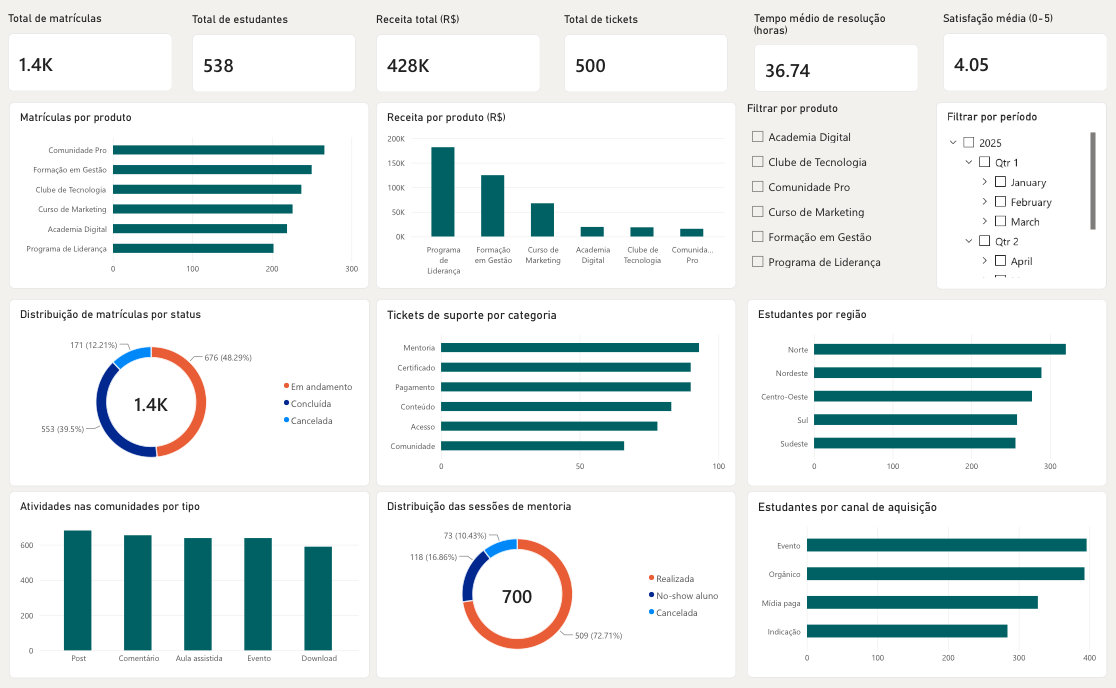

The page's visual inventory and layout, read from the dashboard file:
{"tool":"powerbi","page":{"name":"Page 1","canvas":[1920,1080],"ordinal":0},"visuals":[{"type":"cardVisual","title":"Total de matrículas","fields":{"Data":["CountNonNull(fact_enrollments.enrollment_id)"]},"box":[20,20,189,120],"z":0},{"type":"cardVisual","title":"Total de estudantes","fields":{"Data":["dim_date.Estudantes com Matrículas"]},"box":[210,20,189,120],"z":1},{"type":"cardVisual","title":"Receita total (R$)","fields":{"Data":["Sum(fact_enrollments.amount_brl)"]},"box":[400,20,180,120],"z":2},{"type":"cardVisual","title":"Total de tickets","fields":{"Data":["CountNonNull(fact_support_tickets.ticket_id)"]},"box":[570,20,180,120],"z":3},{"type":"clusteredBarChart","title":"Matrículas por produto","fields":{"Category":["dim_products.product_name"],"Y":["CountNonNull(fact_enrollments.enrollment_id)"]},"box":[20.8,169.6,548.8,260.8],"z":4},{"type":"clusteredColumnChart","title":"Receita por produto (R$)","fields":{"Category":["dim_products.product_name"],"Y":["Sum(fact_enrollments.amount_brl)"]},"box":[569.6,169.6,540.8,260.8],"z":5},{"type":"donutChart","title":"Distribuição de matrículas por status","fields":{"Category":["fact_enrollments.enrollment_status"],"Y":["CountNonNull(fact_enrollments.enrollment_id)"]},"box":[20.8,430.4,548.8,284.8],"z":6},{"type":"clusteredBarChart","title":"Tickets de suporte por categoria","fields":{"Category":["fact_support_tickets.category"],"Y":["CountNonNull(fact_support_tickets.ticket_id)"]},"box":[569.6,430.4,540.8,284.8],"z":7},{"type":"cardVisual","title":"Tempo médio de resolução (horas)","fields":{"Data":["Avg(fact_support_tickets.resolution_hours)"]},"box":[750,20,180,120],"z":8},{"type":"cardVisual","title":"Satisfação média (0-5)","fields":{"Data":["Avg(fact_support_tickets.satisfaction_score)"]},"box":[930,20.8,180,120],"z":9},{"type":"clusteredColumnChart","title":"Atividades nas comunidades por tipo","fields":{"Category":["fact_community_activity.activity_type"],"Y":["CountNonNull(fact_community_activity.activity_id)"]},"box":[20.8,715.2,548.8,284.8],"z":10},{"type":"donutChart","title":"Distribuição das sessões de mentoria","fields":{"Category":["fact_mentorship_sessions.session_status"],"Y":["CountNonNull(fact_mentorship_sessions.session_id)"]},"box":[569.6,715.2,540.8,284.8],"z":11},{"type":"slicer","title":"Filtrar por produto","fields":{"Values":["dim_products.product_name"]},"box":[1124.8,19.2,249.6,281.6],"z":12},{"type":"listSlicer","title":"Filtrar por período","fields":{"Values":["dim_date.date.Variation.Date Hierarchy.Year","dim_date.date.Variation.Date Hierarchy.Quarter","dim_date.date.Variation.Date Hierarchy.Month","dim_date.date.Variation.Date Hierarchy.Day"]},"box":[1124.8,300.8,250,282],"z":13}]}

Visuals, with their boxes on the page's 1920x1080 design canvas (x1, y1, x2, y2). These are canvas units, not pixel positions in the 1116x688 screenshot, which may show the page scaled, cropped or inside an application window:
"Total de matrículas" cardVisual: [20, 20, 209, 140]
"Total de estudantes" cardVisual: [210, 20, 399, 140]
"Receita total (R$)" cardVisual: [400, 20, 580, 140]
"Total de tickets" cardVisual: [570, 20, 750, 140]
"Matrículas por produto" clusteredBarChart: [21, 170, 570, 430]
"Receita por produto (R$)" clusteredColumnChart: [570, 170, 1110, 430]
"Distribuição de matrículas por status" donutChart: [21, 430, 570, 715]
"Tickets de suporte por categoria" clusteredBarChart: [570, 430, 1110, 715]
"Tempo médio de resolução (horas)" cardVisual: [750, 20, 930, 140]
"Satisfação média (0-5)" cardVisual: [930, 21, 1110, 141]
"Atividades nas comunidades por tipo" clusteredColumnChart: [21, 715, 570, 1000]
"Distribuição das sessões de mentoria" donutChart: [570, 715, 1110, 1000]
"Filtrar por produto" slicer: [1125, 19, 1374, 301]
"Filtrar por período" listSlicer: [1125, 301, 1375, 583]
